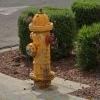a fire hydrant: (29, 13, 52, 87)
